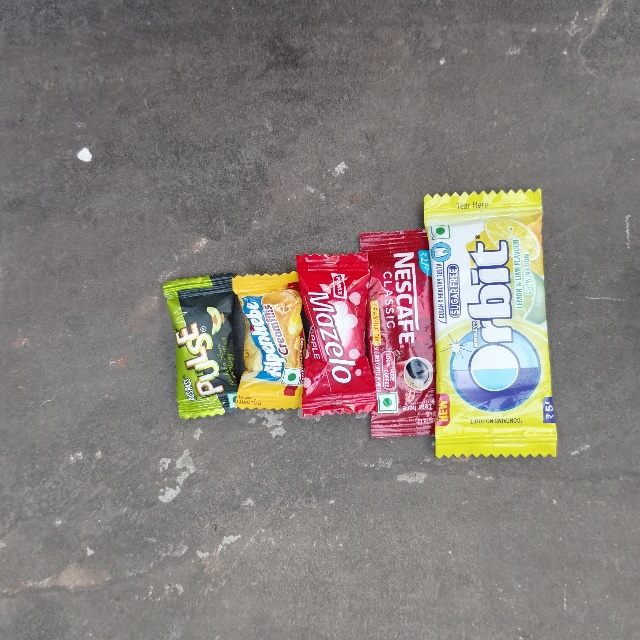Alpenlibe Creamfills: (232, 270, 304, 415)
Mazelo: (297, 256, 373, 412)
Nescafe Coffee: (358, 235, 437, 438)
Orbit: (422, 196, 561, 459)
Pulse: (167, 283, 237, 414)
